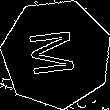M_E: (28, 28, 85, 80)
